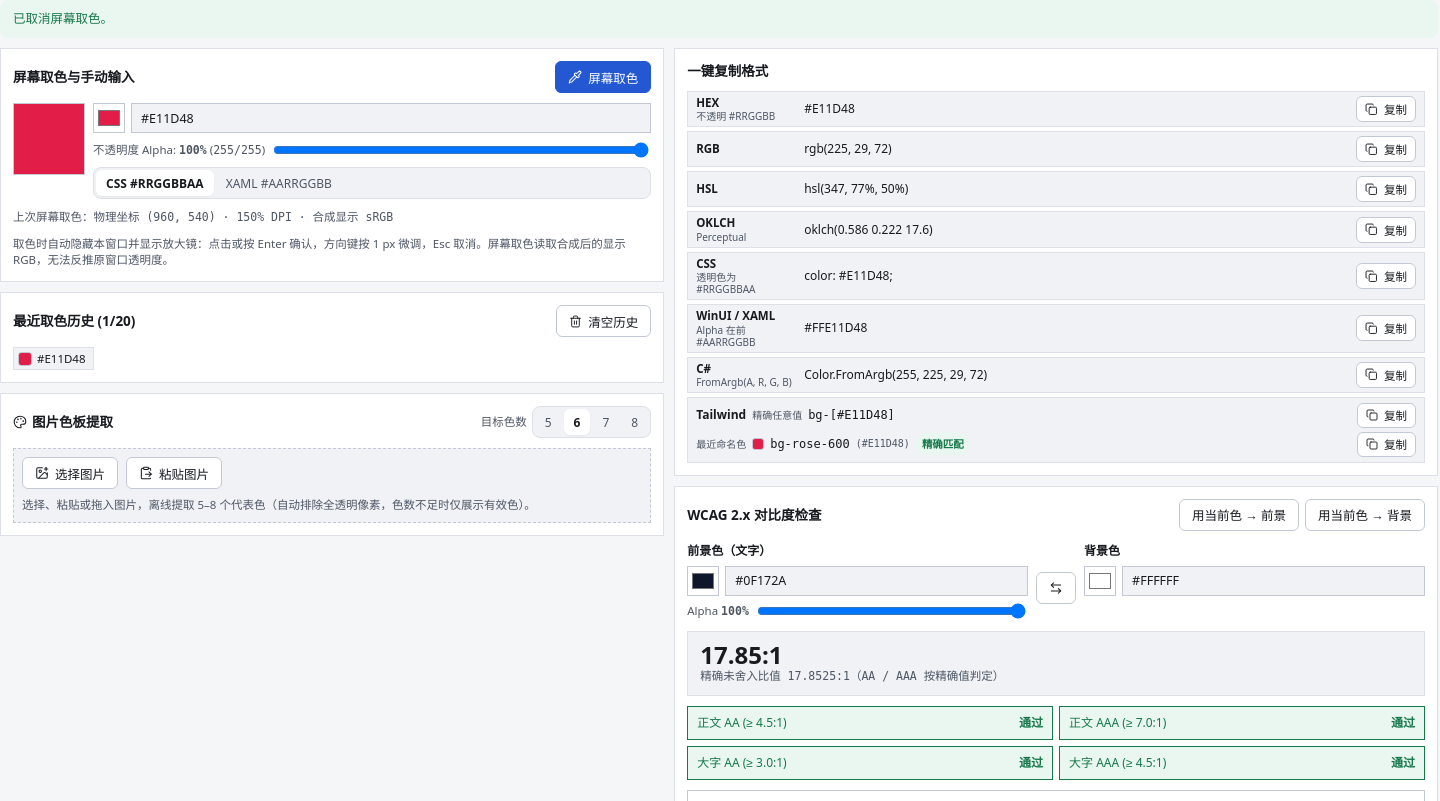
Test case: I10 ColorPickerWorkspace › handles screen color picking, Esc cancel, translucent CSS vs XAML formats, recent 20 history clear, palette FG/BG, and WCAG boundary checks
Earlier steps of the test are not shown.
Later steps or results of the test are not shown.
Expected: the text "已取消屏幕取色。" is shown, 13,9 -> 113,29
Note: Translucent color strictly distinguishes CSS #RRGGBBAA from WinUI/XAML #AARRGGBB
Step 1. Replace the text in the field with test id "i10-manual-input" with "#10B98180" → (391,118), box 131,103 -> 651,133
Then press Enter
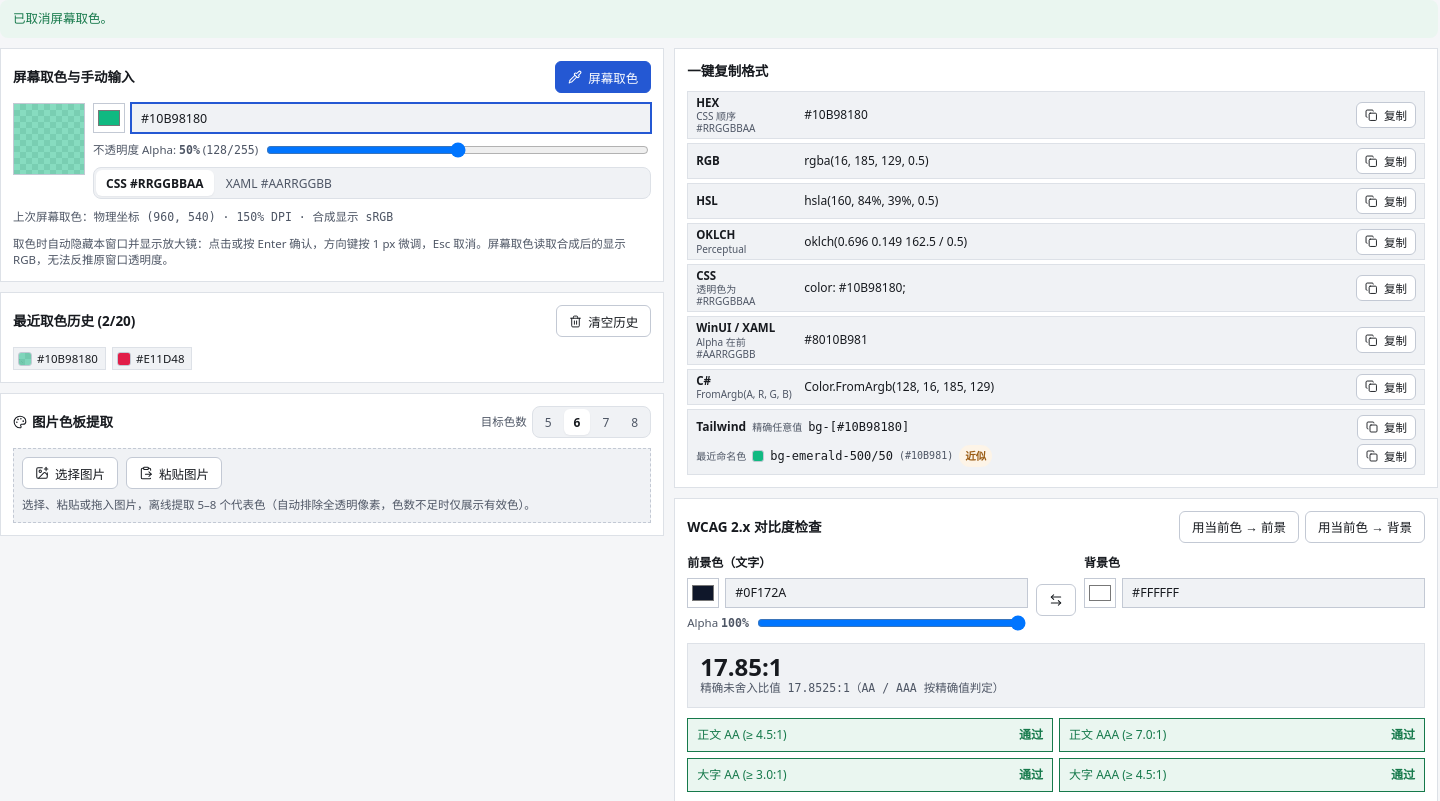
Now the text with test id "i10-fmt-hex" reads "#10B98180", box 804,106 -> 868,123
Now the text with test id "i10-fmt-css" reads "color: #10B98180;", box 804,279 -> 906,296
Now the text with test id "i10-fmt-xaml" reads "#8010B981", box 804,331 -> 868,348
Note: Clear history works
Step 2. Click the button with test id "i10-clear-history-btn" → (604,321), box 556,305 -> 651,337
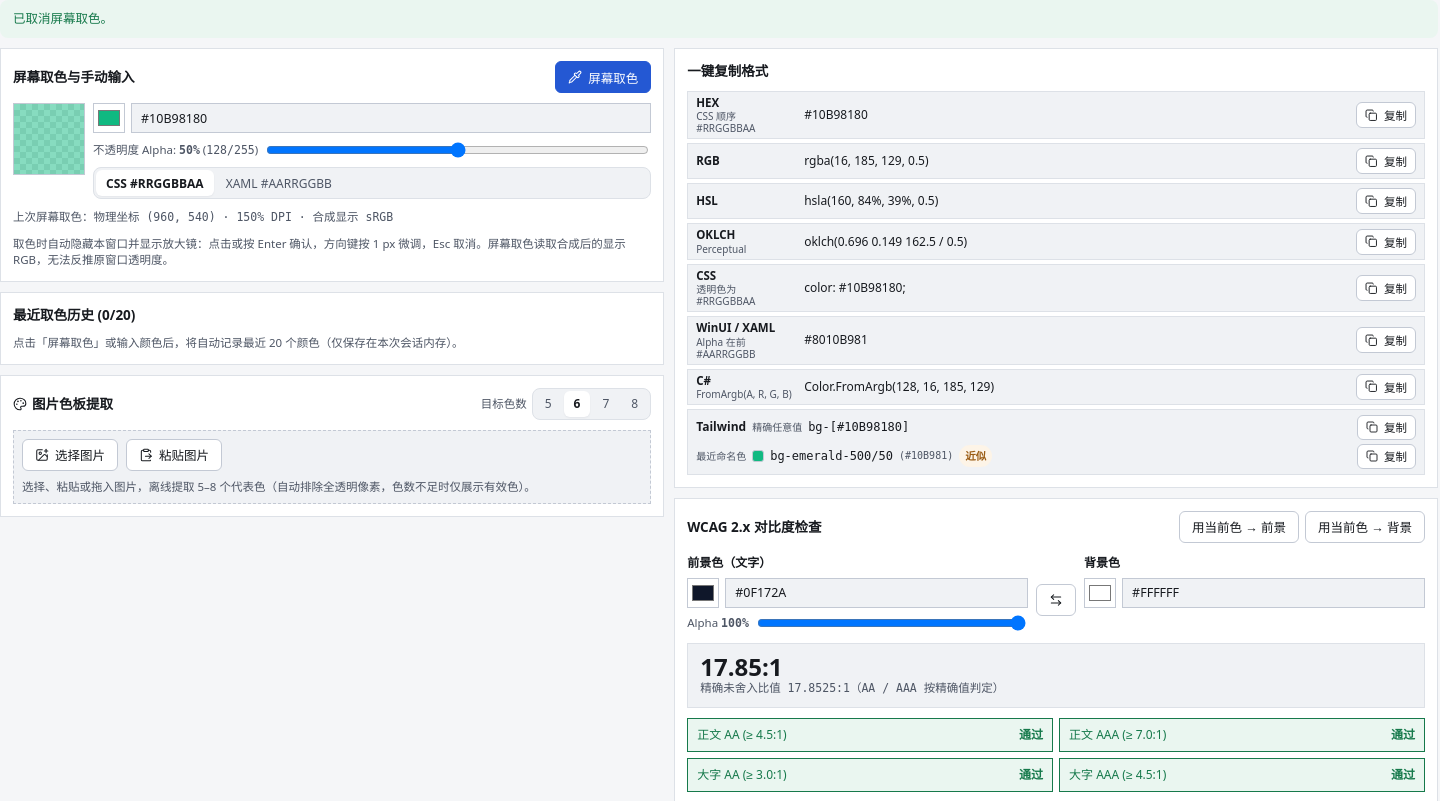
Now the element with test id "i10-history-list" is gone
Step 3. Click the button "粘贴图片" → (174,455), box 126,439 -> 222,471
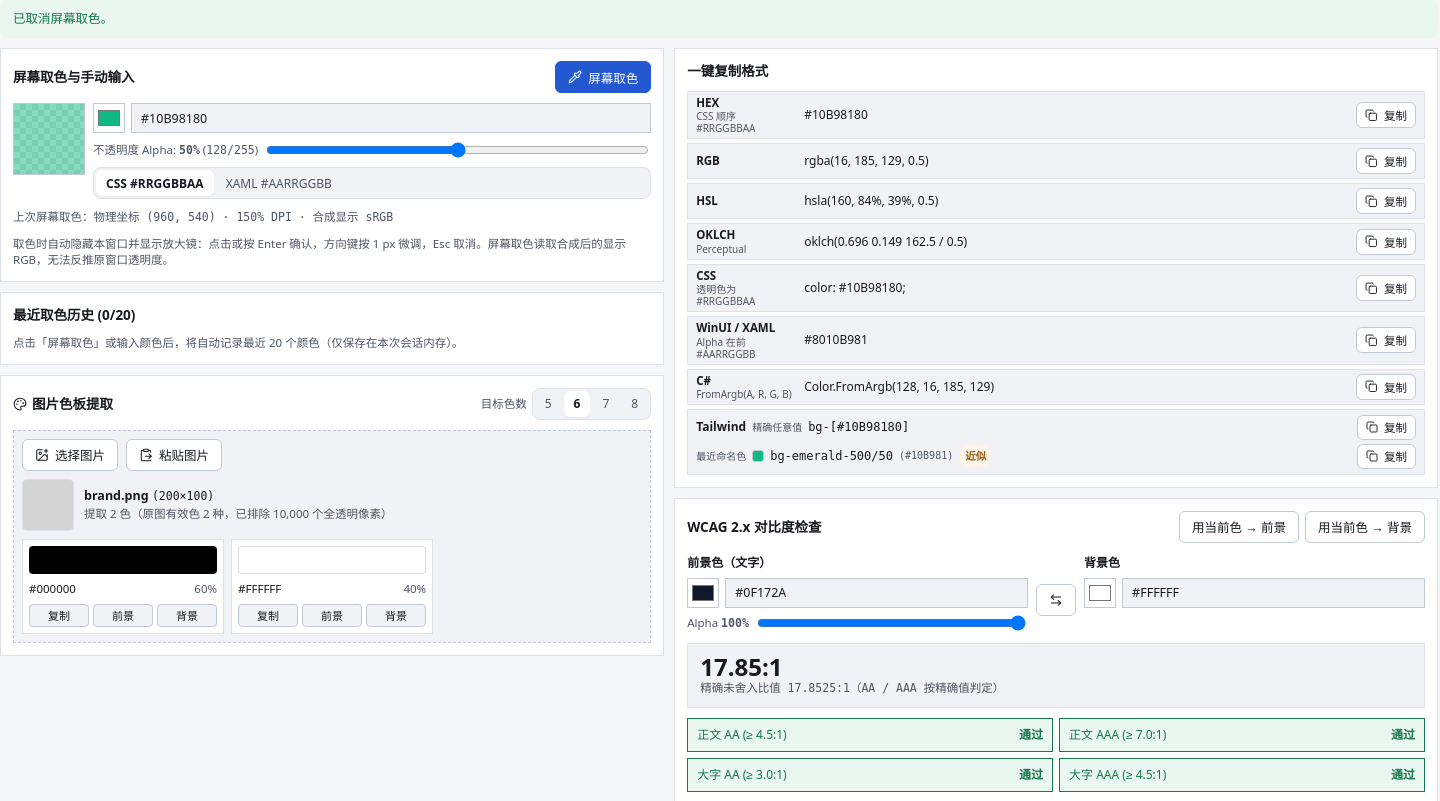
Now the element with test id "i10-palette-swatches" is shown, box 22,539 -> 433,634
Now the text "提取 2 色（原图有效色 2 种，已排除 10,000 个全透明像素）" is shown, box 84,506 -> 393,523
Step 4. Click the button "前景" below "#000000" → (123,615), box 93,604 -> 153,627
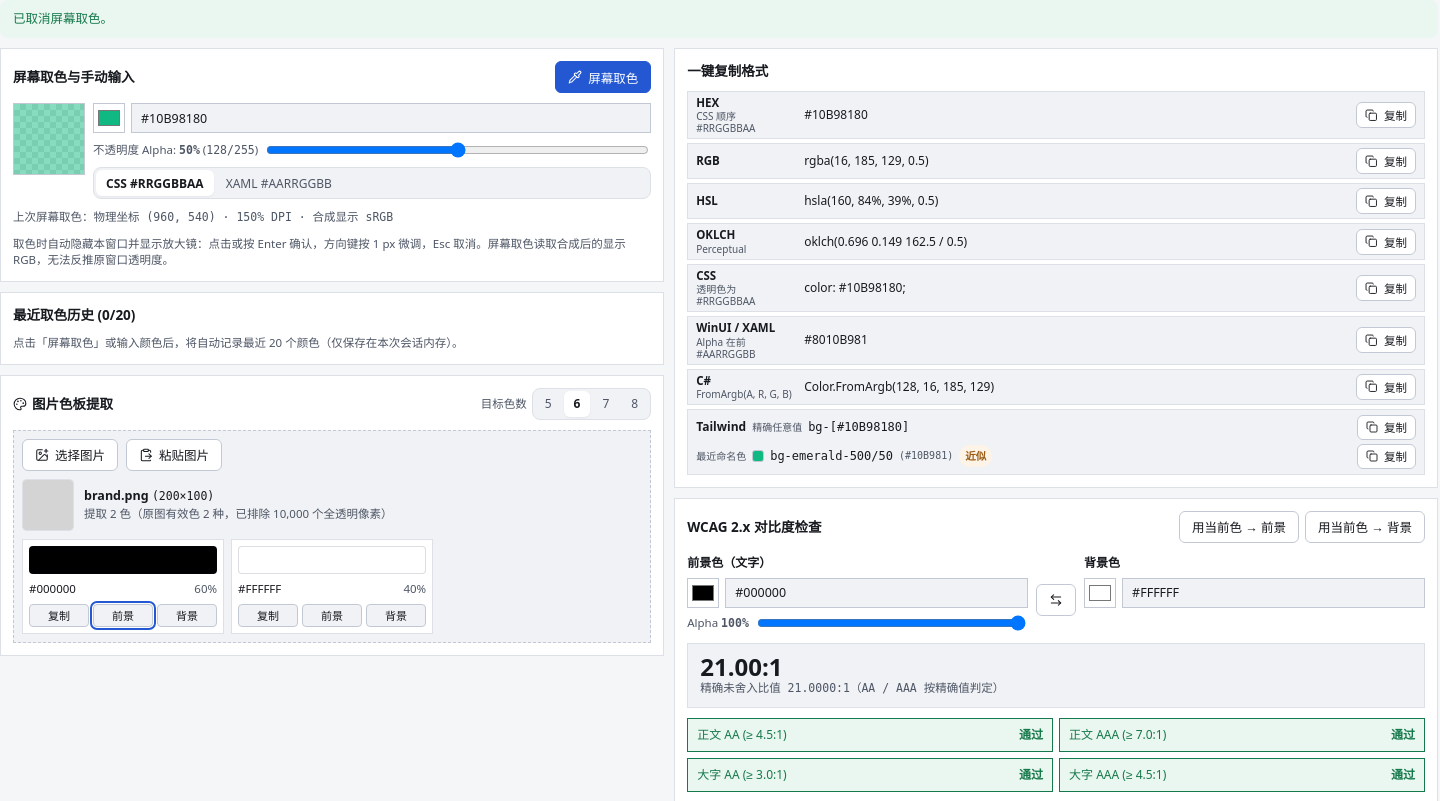
Step 5. Click the button "背景" below "#FFFFFF" → (396,615), box 366,604 -> 426,627
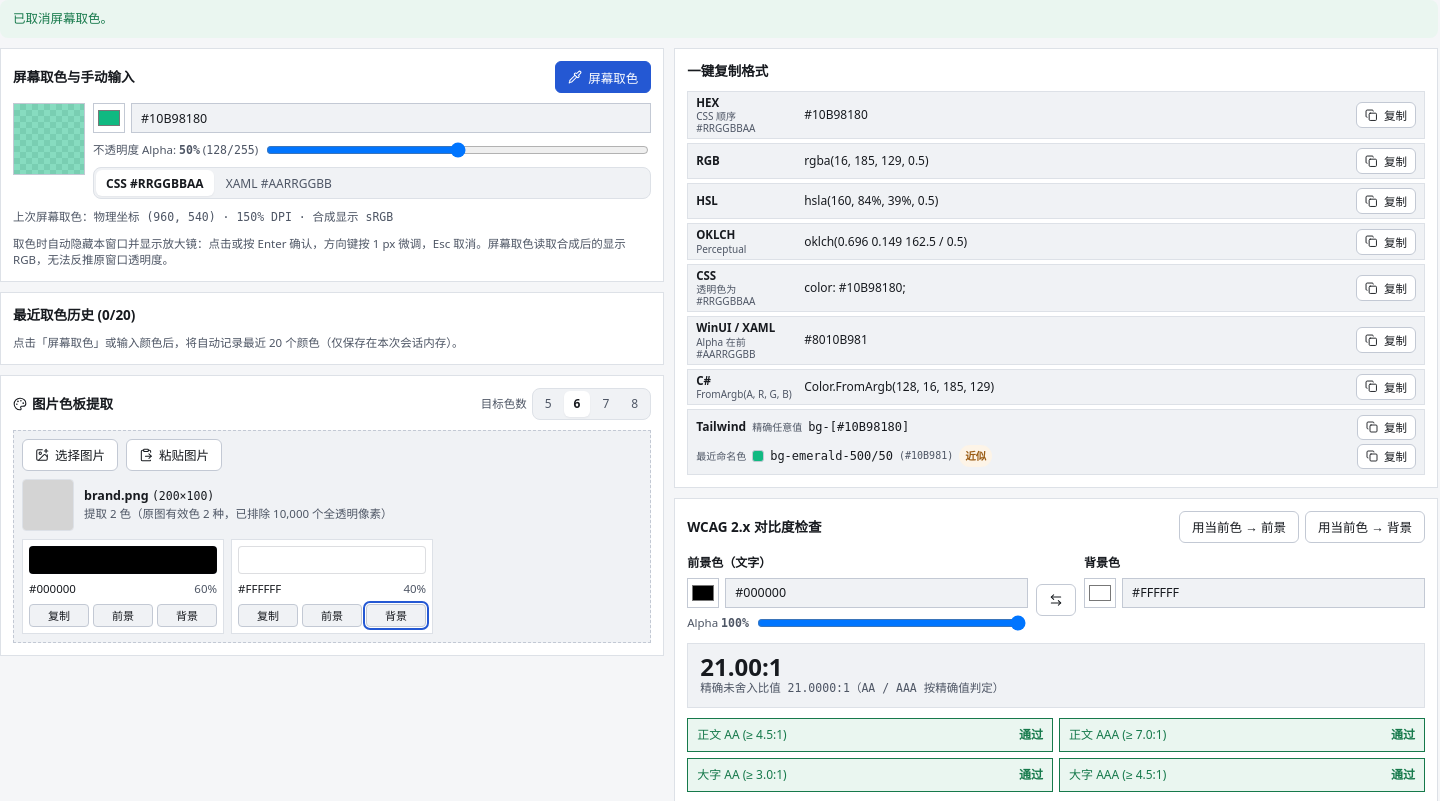
Expected: the element with test id "i10-wcag-aaa-normal" shows "通过", 1391,726 -> 1415,743
Now the text with test id "i10-contrast-ratio" reads "21.00:1", box 700,650 -> 782,683
Step 6. Replace the text in the field with test id "i10-fg-input" with "#77767C" → (877,593), box 725,578 -> 1028,608
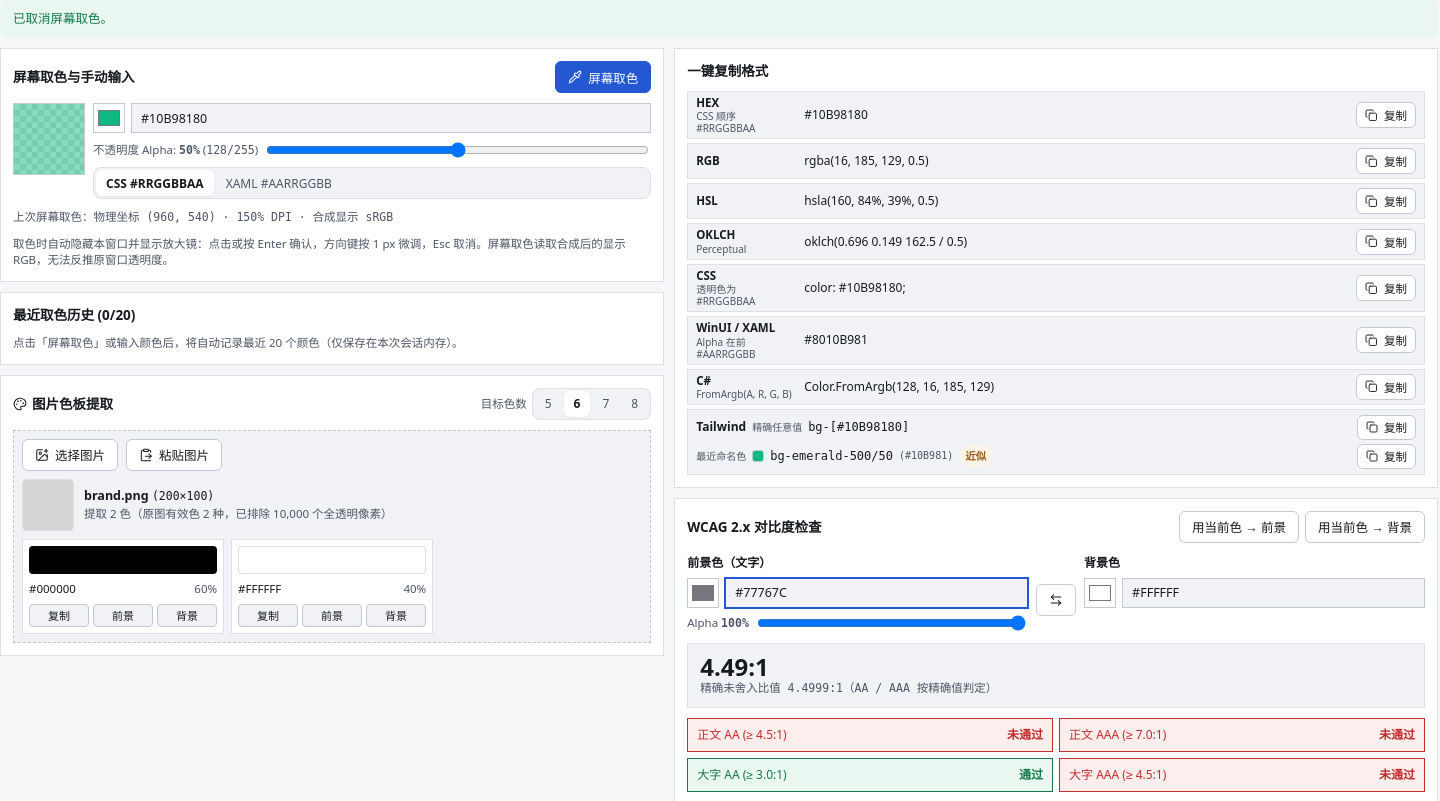
Expected: the element with test id "i10-wcag-aa-large" shows "通过", 1019,766 -> 1043,783
Now the text with test id "i10-contrast-ratio" reads "4.49:1", box 700,650 -> 769,683
Now the element with test id "i10-wcag-aa-normal" shows "未通过", box 1007,726 -> 1043,743
